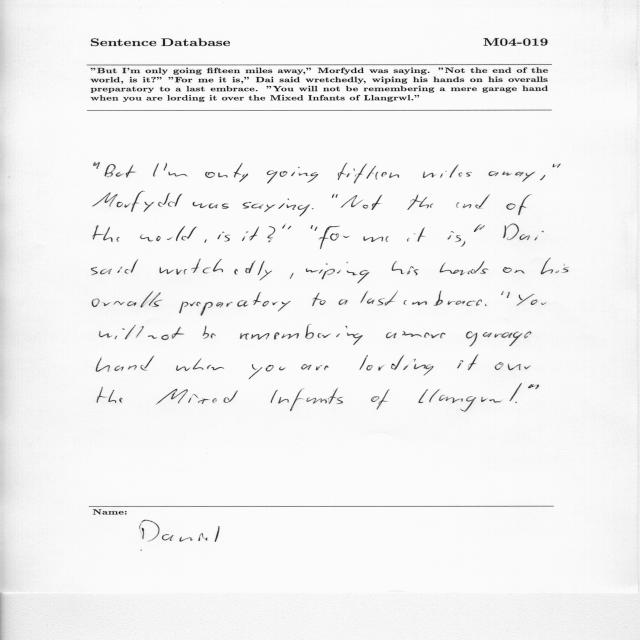word: (418, 383, 522, 412), (179, 292, 291, 316), (240, 324, 363, 345), (160, 259, 272, 281), (93, 191, 182, 212), (271, 388, 343, 411), (360, 355, 434, 376), (306, 262, 370, 283), (156, 389, 238, 405), (242, 199, 310, 217), (338, 163, 399, 183), (404, 291, 482, 306), (93, 291, 163, 307), (466, 332, 532, 347), (96, 356, 154, 372), (140, 226, 197, 242), (205, 163, 248, 182), (267, 167, 318, 183), (92, 259, 139, 275), (320, 226, 350, 249), (423, 164, 472, 178), (440, 261, 488, 275), (503, 224, 544, 240), (99, 325, 144, 339), (341, 195, 382, 210), (176, 359, 224, 371), (249, 364, 286, 379), (506, 195, 532, 216), (360, 291, 398, 305), (488, 171, 535, 182), (456, 194, 489, 209), (148, 327, 184, 340), (93, 225, 120, 242), (105, 164, 136, 178), (541, 258, 568, 274), (408, 194, 434, 210), (97, 387, 123, 403), (371, 389, 390, 410), (392, 261, 419, 275), (517, 294, 546, 306), (164, 163, 188, 177), (458, 355, 479, 371), (402, 331, 445, 338), (495, 363, 531, 371), (407, 227, 425, 242), (193, 202, 229, 209), (242, 227, 259, 241), (301, 364, 329, 371), (312, 293, 326, 306), (203, 326, 216, 339), (363, 236, 389, 242), (447, 231, 461, 242), (503, 267, 525, 274), (217, 232, 230, 242), (268, 227, 275, 243), (474, 224, 485, 232), (153, 163, 159, 177), (386, 332, 397, 338), (501, 291, 510, 298), (528, 384, 539, 389), (339, 299, 348, 305), (282, 225, 292, 230), (94, 162, 100, 169), (552, 164, 561, 168), (311, 225, 317, 231), (332, 193, 338, 198), (540, 175, 545, 180), (461, 241, 465, 247), (290, 273, 294, 279), (204, 239, 207, 243), (485, 304, 487, 306), (515, 401, 517, 403), (312, 208, 313, 209)
